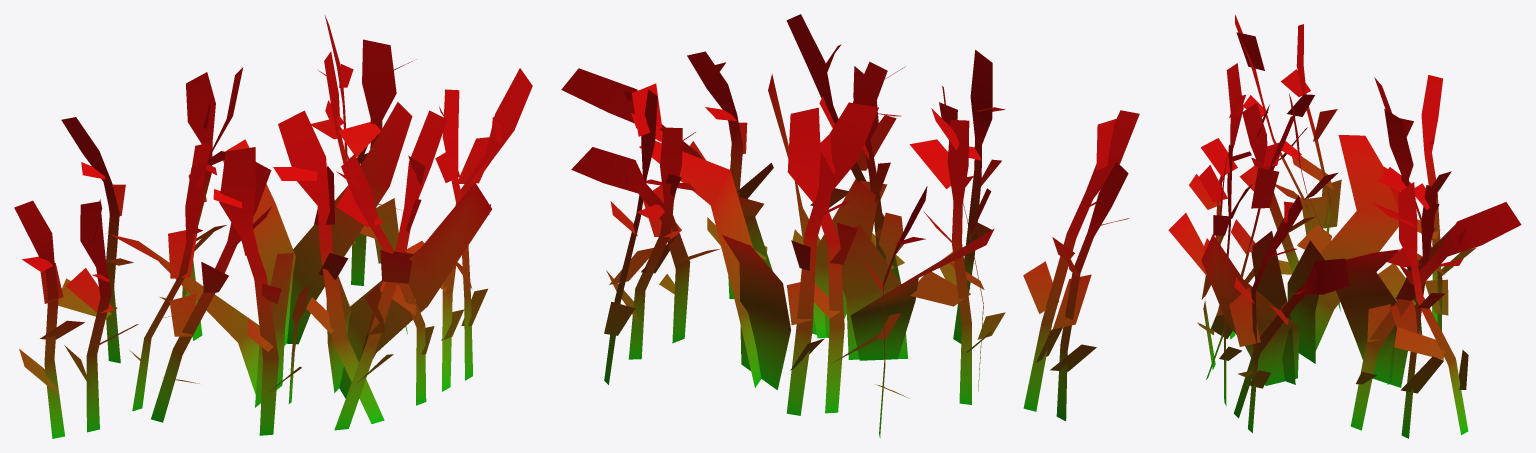
File: Var3_LOD2.fbx
3 views of the same model, side by side, from view 1: azimuth 30°, elevation 25°; view 2: azimuth 150°, elevation 25°; view 3: azimuth 270°, elevation 25° (orthographic). The views are drawn at different scales.
Parts seen in each view (by area): view 1: _2e4a_Var3_LOD2; view 2: _2e4a_Var3_LOD2; view 3: _2e4a_Var3_LOD2.
Boxes of the visible parts, x1=… form: _2e4a_Var3_LOD2: x1=14, y1=15, x2=532, y2=438; _2e4a_Var3_LOD2: x1=561, y1=14, x2=1139, y2=437; _2e4a_Var3_LOD2: x1=1168, y1=15, x2=1521, y2=438.
Size of the model in its own units: 14.57 by 7.77 by 9.24.
